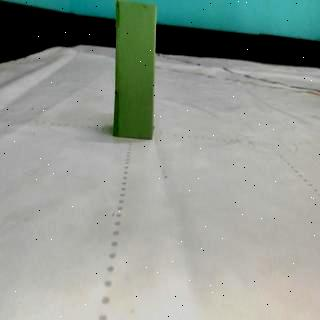greenbox: (116, 0, 156, 140)
